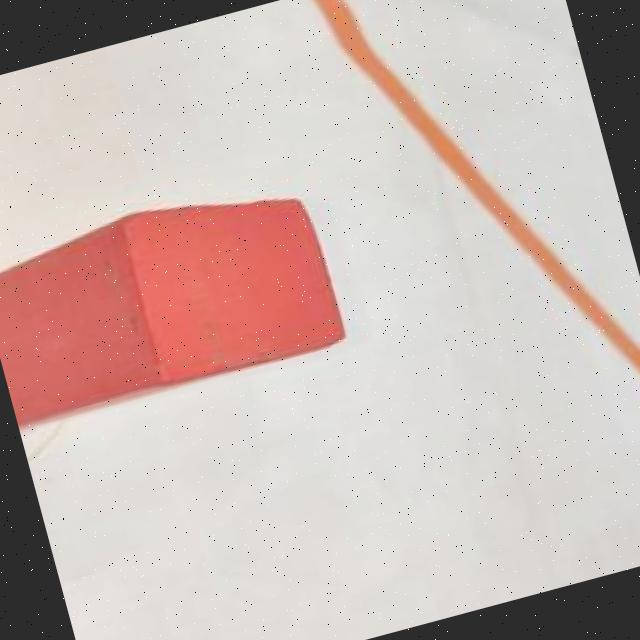redbox: (0, 164, 356, 434)
